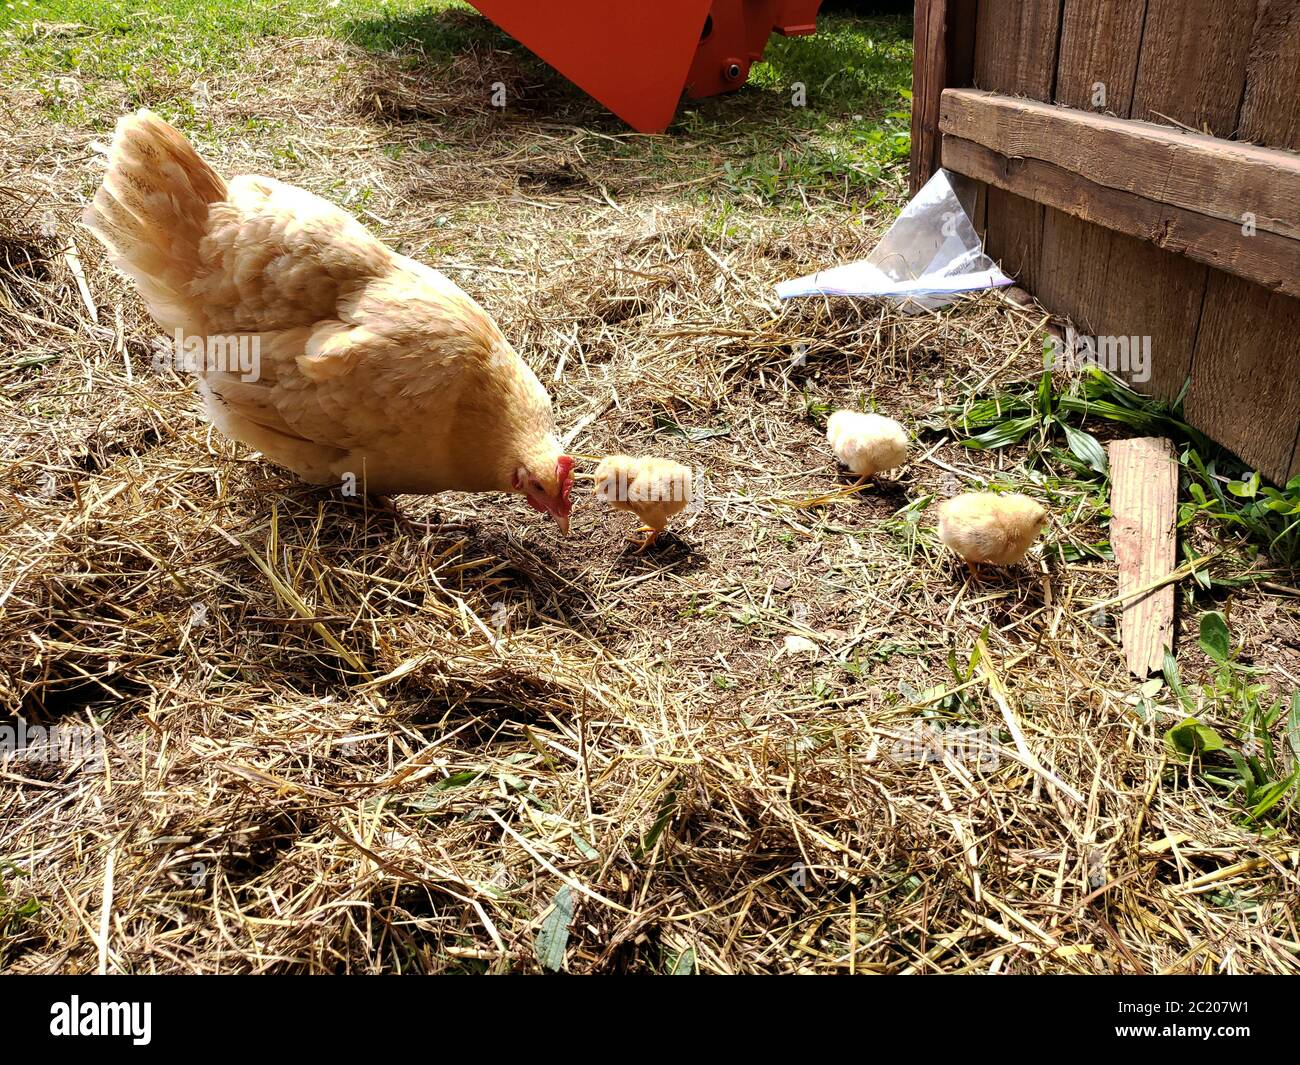buff: (97, 131, 597, 566)
